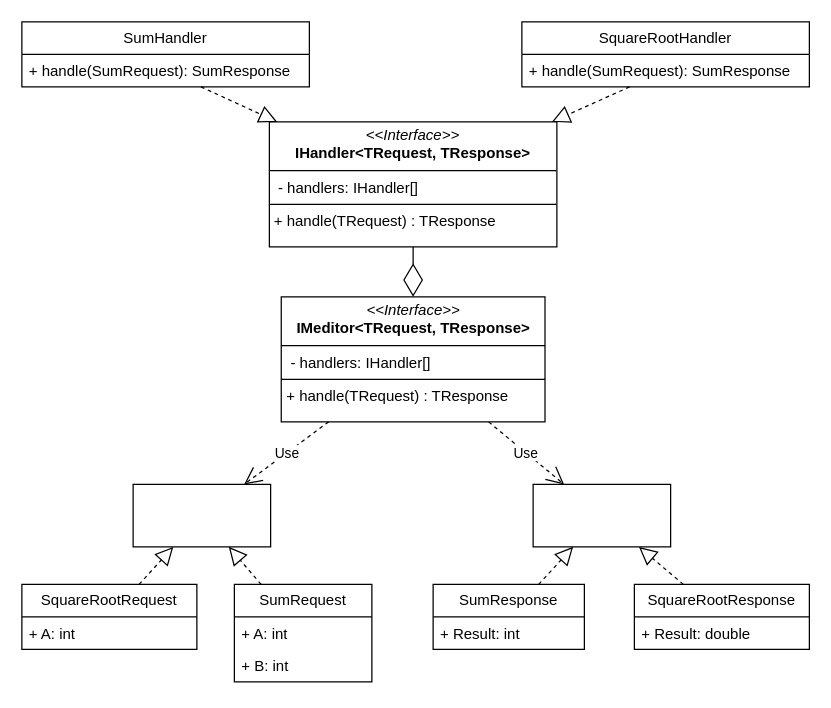
Some shapes in this 831 by 708 pixel diagram are drawn without their labels. The shapes that lost their labels are listed below. From the top down, each one's centre as x and y in pixels, then its label:
At (201,515): "«interface» IRequest".
At (601,515): "«interface» IResponse".
